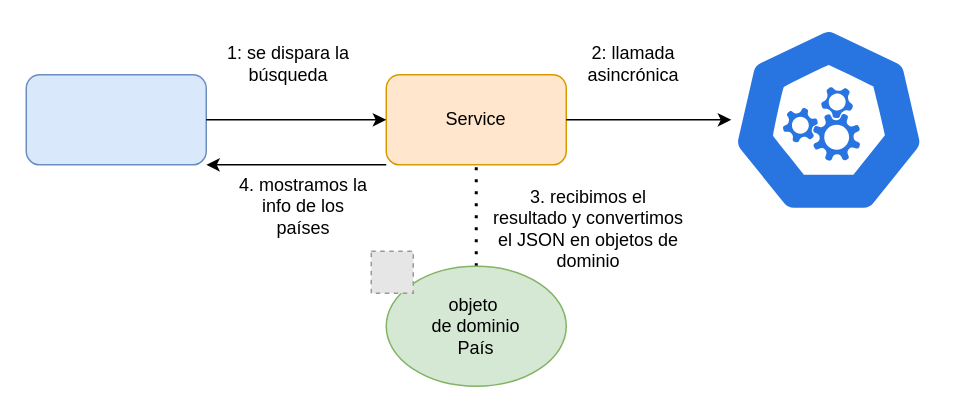
Image size: 953x413. Some labels were removed from this diagram. Grey dashed boxes stand in for pictures. The centre of each missing label's shape, as x and y in pixels:
"página Svelte" goes at point (115, 119).
"rest countries" goes at point (828, 119).
